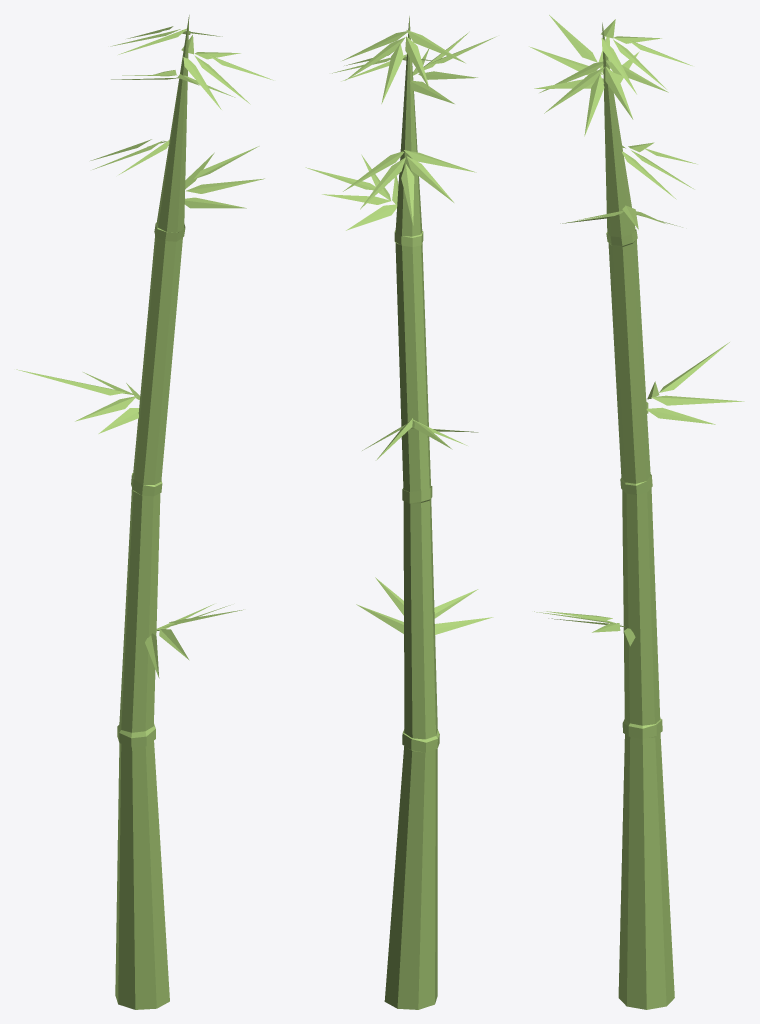
File: bamboo_rostok.fbx
3 views of the same model, side by side, from view 1: azimuth 30°, elevation 25°; view 2: azimuth 150°, elevation 25°; view 3: azimuth 270°, elevation 25° (orthographic). The views are drawn at different scales.
Visible parts, largest first — view 1: bamboo_rostok; view 2: bamboo_rostok; view 3: bamboo_rostok.
Part boxes in pixels (x1,y1,x2,y2): bamboo_rostok: [16, 15, 273, 1009]; bamboo_rostok: [305, 16, 496, 1009]; bamboo_rostok: [529, 15, 744, 1009].
Bounding box in the file's own units: 1.07 × 5.07 × 1.01.
